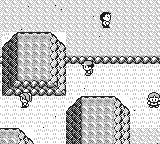main: (81, 61, 94, 75)
no-caminable: (3, 33, 65, 96), (67, 97, 129, 143), (1, 129, 33, 143)
npc: (19, 92, 32, 107), (147, 93, 160, 108), (100, 12, 112, 28)
salto: (67, 56, 160, 63), (1, 56, 2, 63)
